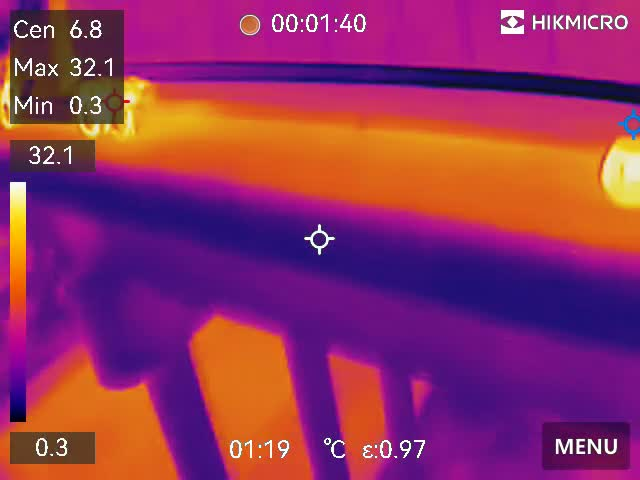heavyTruck: (1, 2, 640, 204)
